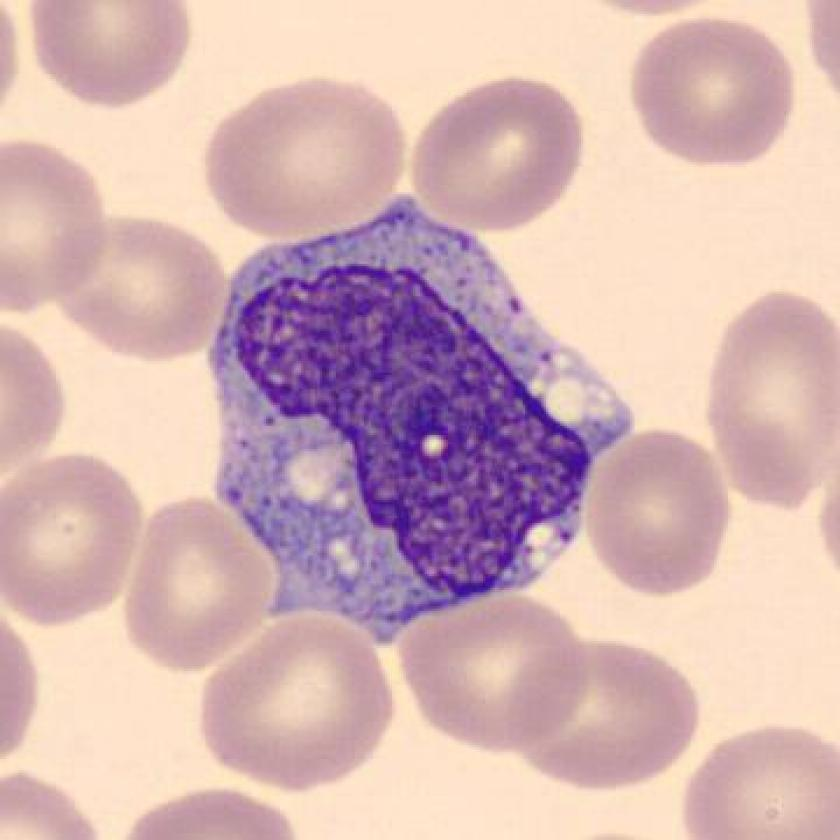monocyte: (186, 188, 648, 663)
